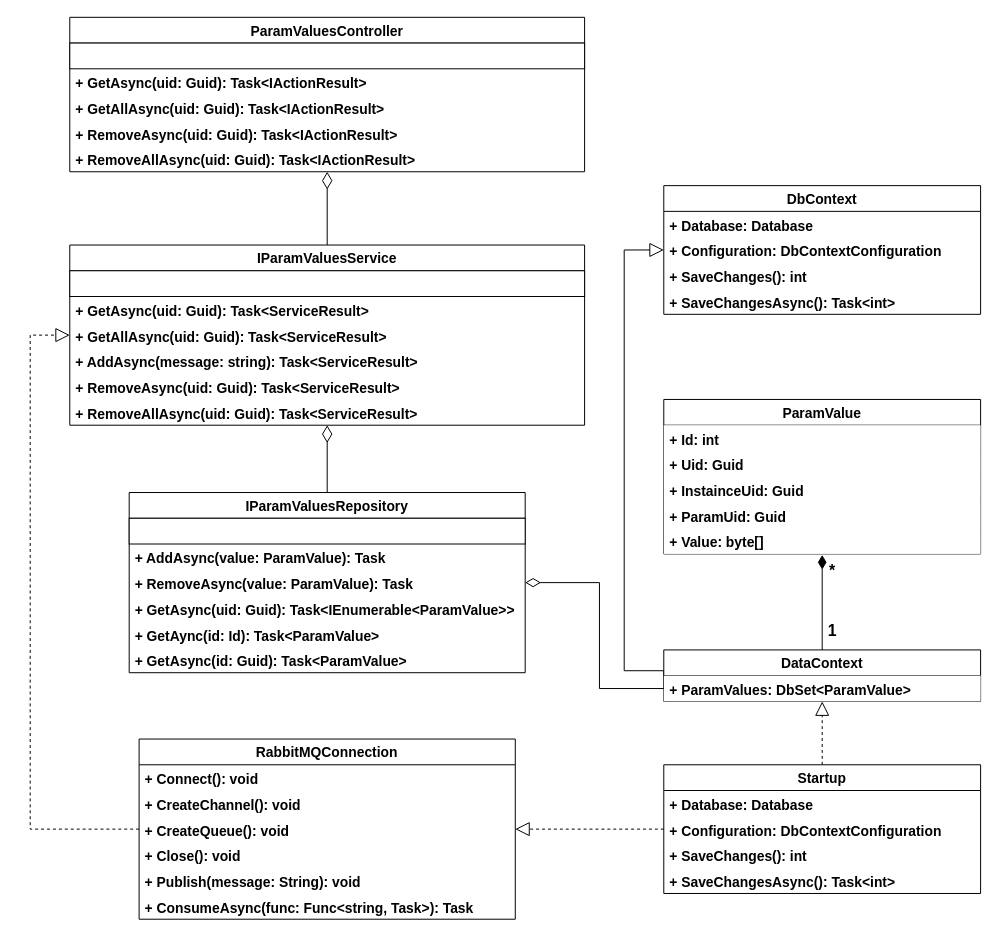
The diagram is 998 pixels wide and 940 high, and some of its shapes have lost their labels. The shapes that lost their labels are listed below. From the top down, each one's centre as x and y in pixels, then its label:
At (327,55): "- valuesService: IParamValuesService".
At (327,283): "- valuesRepository: IParamValuesRepository".
At (326,530): "- context: DataContext".
